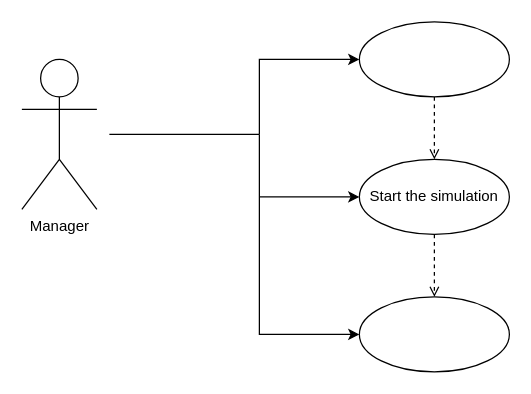
The diagram is 531 pixels wide and 394 high, and some of its shapes have lost their labels. Here are the shapes that lost their labels. From the top down, the centre of each, then its label:
At point 433,59: "Set up the simulation".
At point 433,334: "See the real-time queue evolution".
